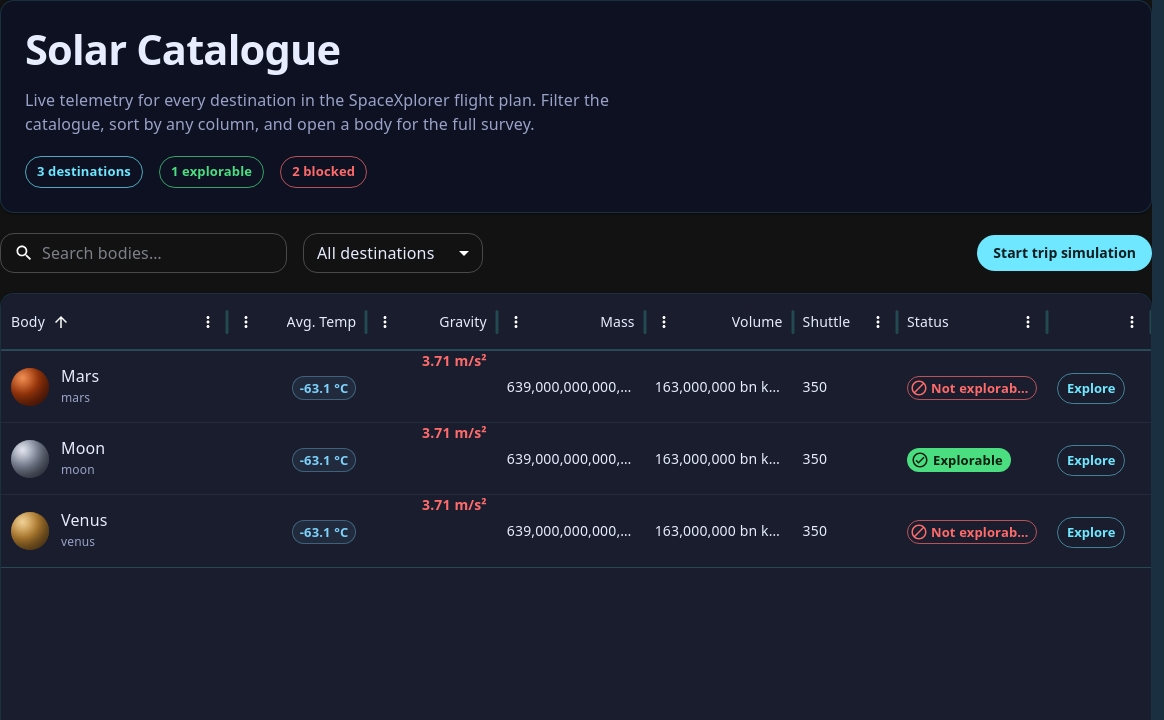
Test: PlanetListPage › narrows the catalogue by name
Type "ven" into the field with placeholder "Search bodies…". click: [164, 253]
box: [42,233,287,273]
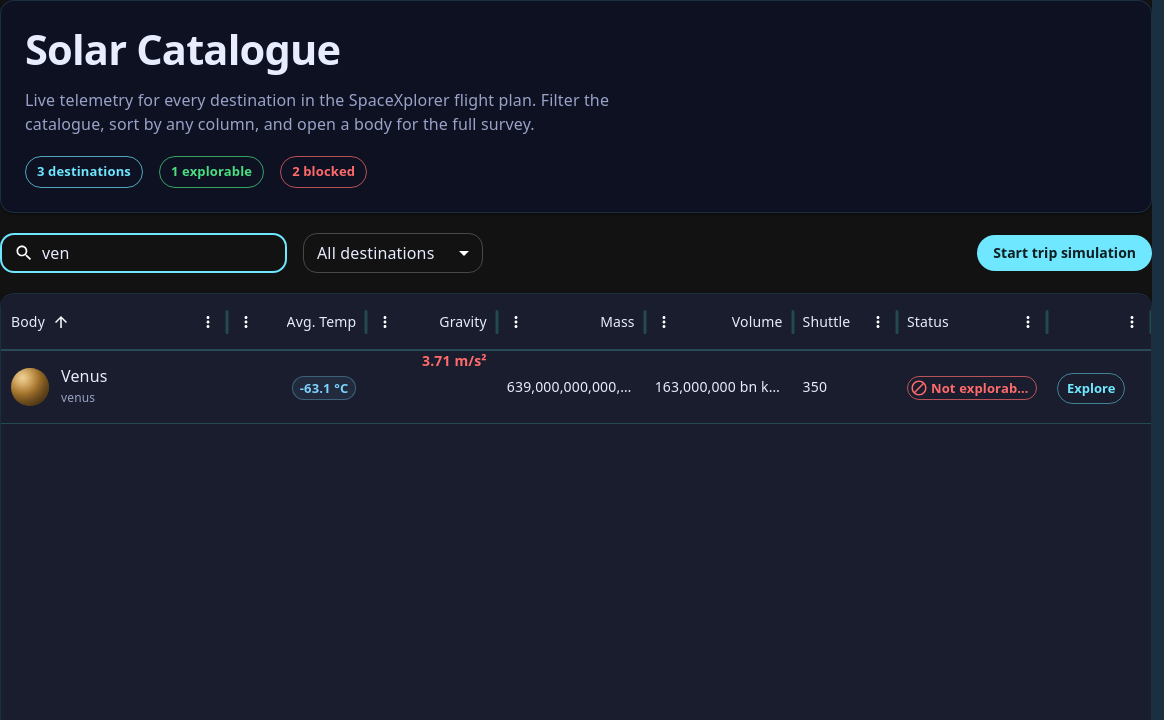
Check: the heading "Venus" is shown, box [61,368,108,387]
Check: the heading "Mars" is gone
